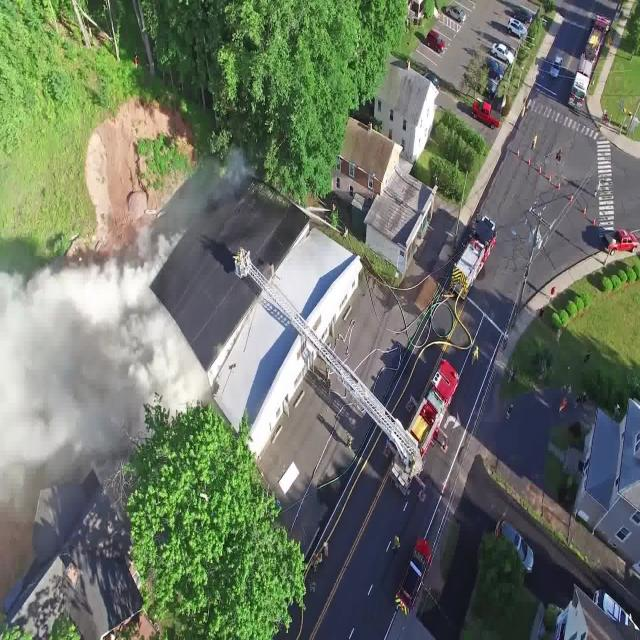Smoke: (0, 235, 221, 476), (146, 147, 257, 237)
